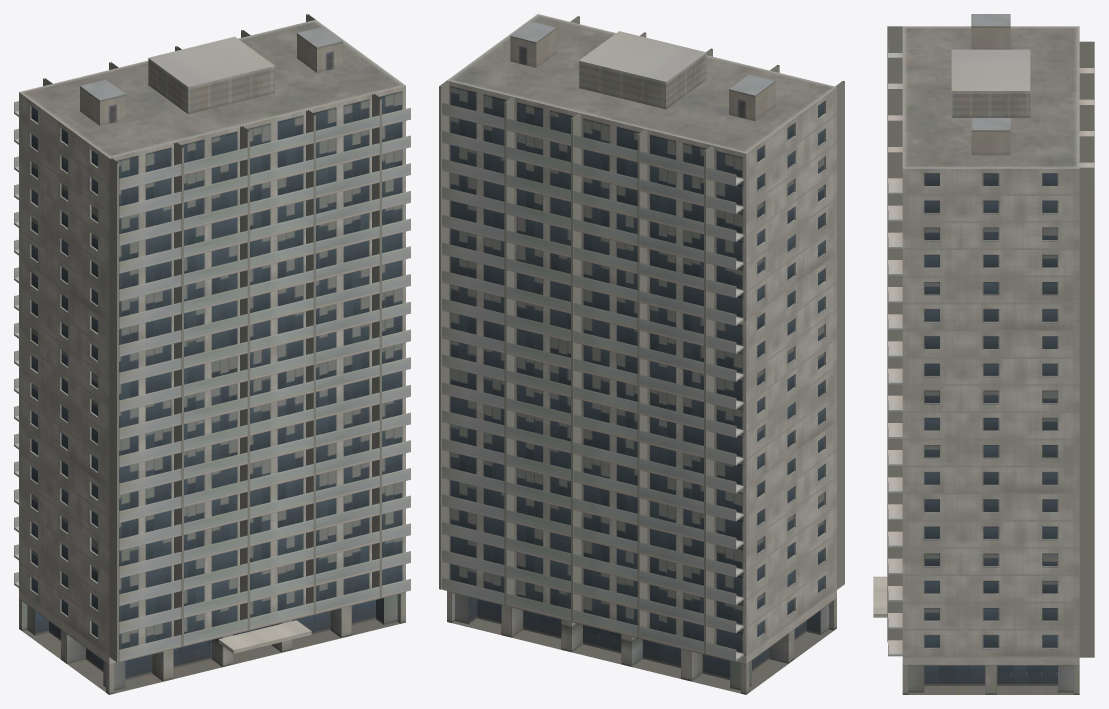
Rendered from sf_apartment_c.glb.
3 renders of one model, left to right at view 1: azimuth 30°, elevation 25°; view 2: azimuth 150°, elevation 25°; view 3: azimuth 270°, elevation 25°, orthographic. The views are drawn at different scales.
Visible parts, largest first — view 1: sf_apartment_c; view 2: sf_apartment_c; view 3: sf_apartment_c.
Part boxes in pixels (bbox=[...]): sf_apartment_c: bbox=[14, 14, 410, 694]; sf_apartment_c: bbox=[439, 14, 844, 694]; sf_apartment_c: bbox=[873, 14, 1094, 694].
Bounding box in the file's own units: 34.2 × 62.1 × 22.55.
1 material, 1 textured.
